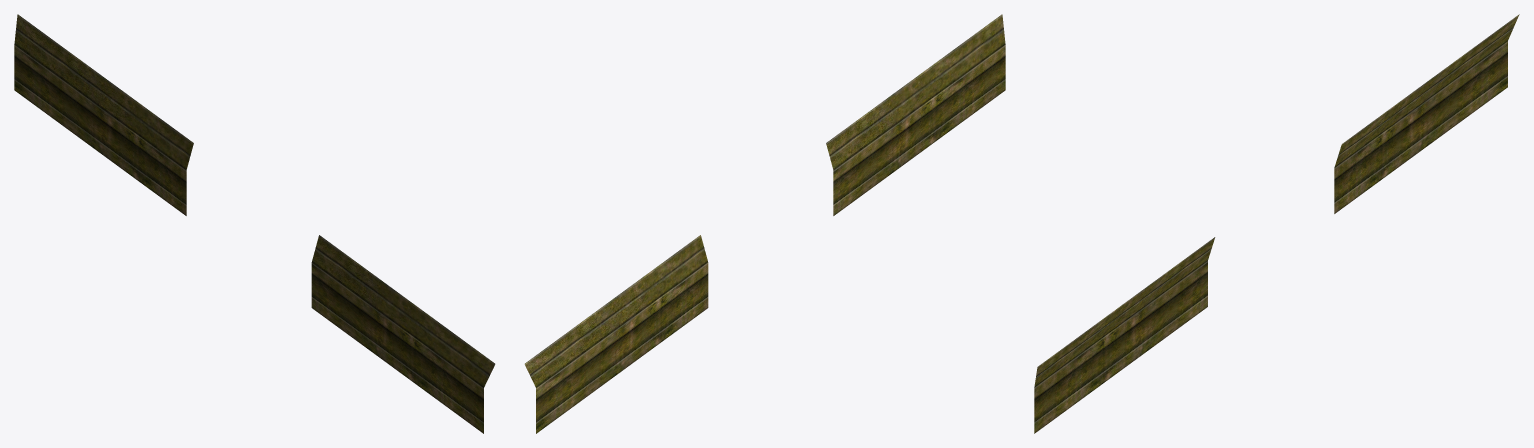
Rendered from OVERHILL_A_01_OBJECT315.fbx.
The picture shows the model from 3 angles, left to right: view 1: azimuth 30°, elevation 25°; view 2: azimuth 150°, elevation 25°; view 3: azimuth 330°, elevation 25°; orthographic projection.
Parts seen in each view (by area): view 1: OVERHILL_A_01_OBJECT315; view 2: OVERHILL_A_01_OBJECT315; view 3: OVERHILL_A_01_OBJECT315.
Boxes of the visible parts, x1,y1,x2,y2 form: OVERHILL_A_01_OBJECT315: [14, 14, 495, 433]; OVERHILL_A_01_OBJECT315: [524, 14, 1005, 433]; OVERHILL_A_01_OBJECT315: [1034, 14, 1519, 433].
Bounding box in the file's own units: 1348 × 12361 × 149972.
Materials: 2 (2 with a texture image).
